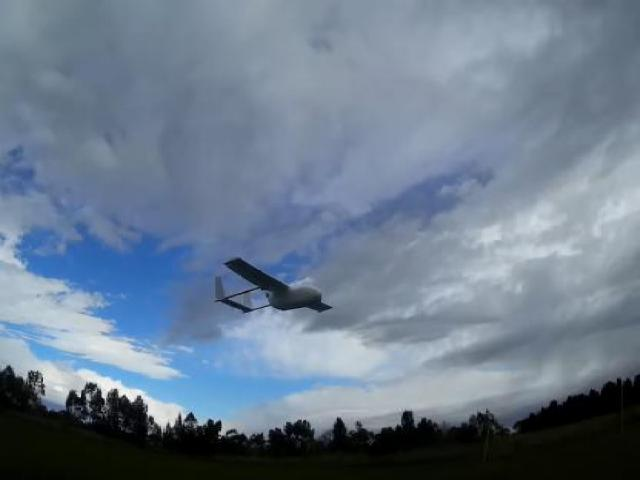uav: (212, 253, 333, 318)
